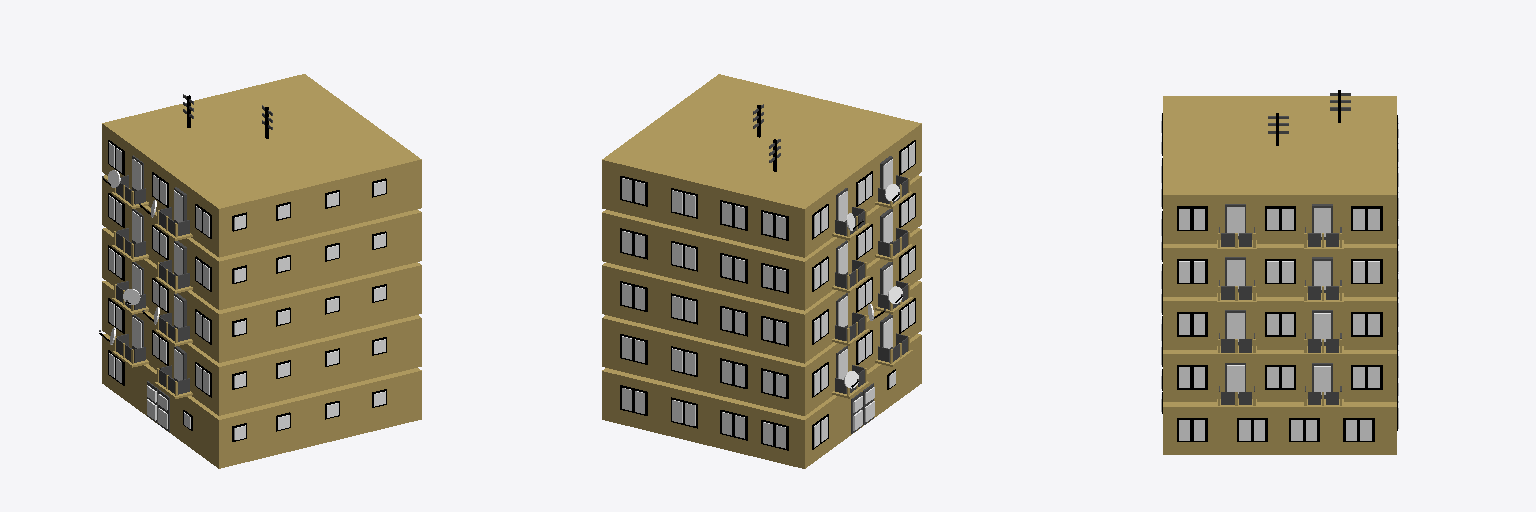
File: panel_01.obj
3 views of the same model, side by side, from view 1: azimuth 30°, elevation 25°; view 2: azimuth 150°, elevation 25°; view 3: azimuth 270°, elevation 25° (orthographic).
Parts seen in each view (by area): view 1: Box360, Box01, Box202, Box02, Box281; view 2: Box360, Box01, Box281, Box202, Box02; view 3: Box360, Box01, Box202, Box281, Box02.
Boxes of the visible parts, x1,y1,x2,y2 form: Box360: [102, 74, 421, 257]; Box01: [102, 334, 421, 468]; Box202: [102, 228, 421, 362]; Box02: [102, 281, 421, 415]; Box281: [102, 175, 421, 309]; Box360: [602, 74, 921, 257]; Box01: [602, 334, 921, 468]; Box281: [602, 175, 921, 310]; Box202: [602, 228, 921, 363]; Box02: [602, 281, 921, 415]; Box360: [1163, 96, 1396, 243]; Box01: [1163, 402, 1396, 454]; Box202: [1163, 297, 1396, 349]; Box281: [1163, 244, 1396, 296]; Box02: [1163, 350, 1396, 401].
Bounding box in the file's own units: 26.57 × 29.89 × 21.96.